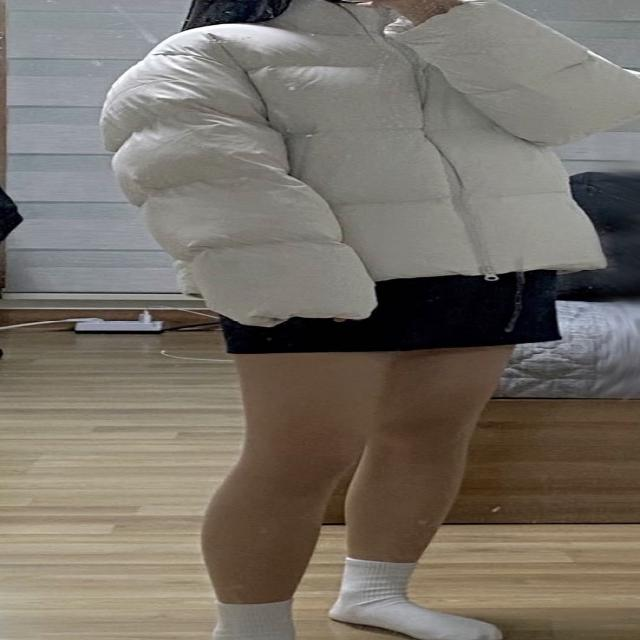padding: (104, 8, 640, 330)
skirt: (224, 263, 560, 358)
